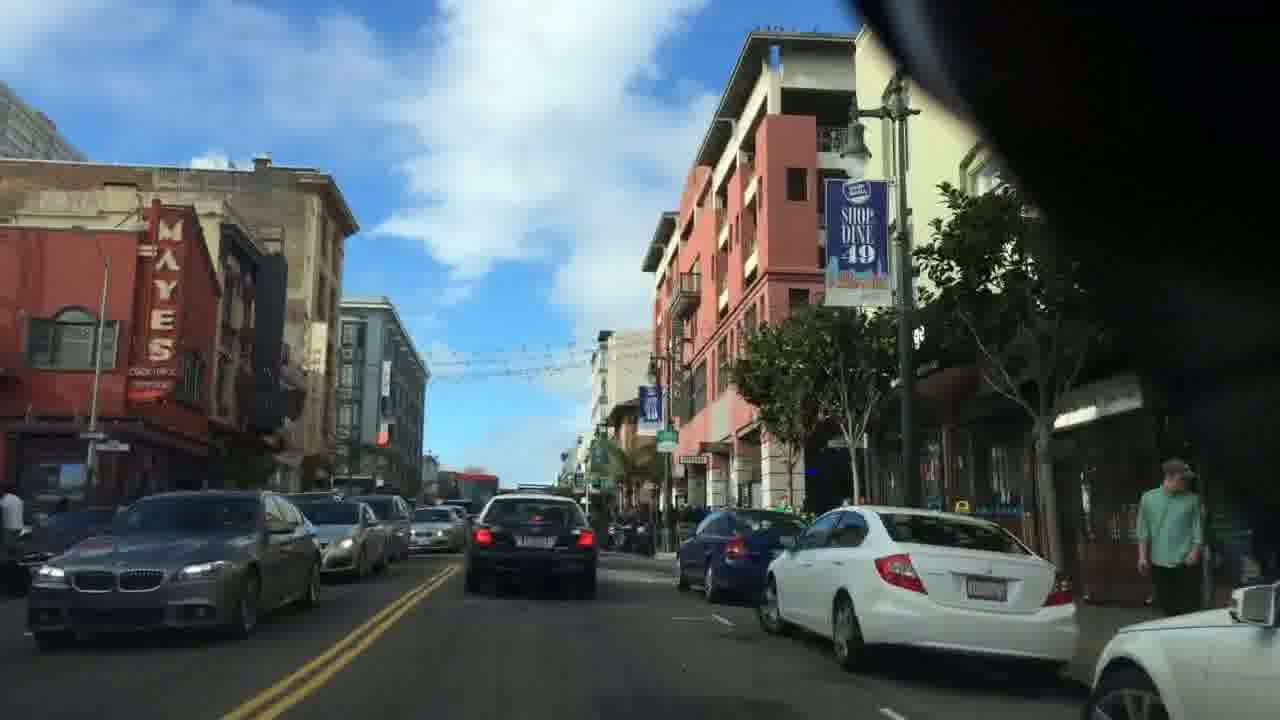car: (756, 503, 1080, 680), (23, 483, 322, 651), (1083, 577, 1280, 720), (465, 492, 600, 599), (672, 508, 807, 604), (291, 497, 387, 578), (406, 504, 464, 552)
pedestrian: (1134, 455, 1208, 619)
